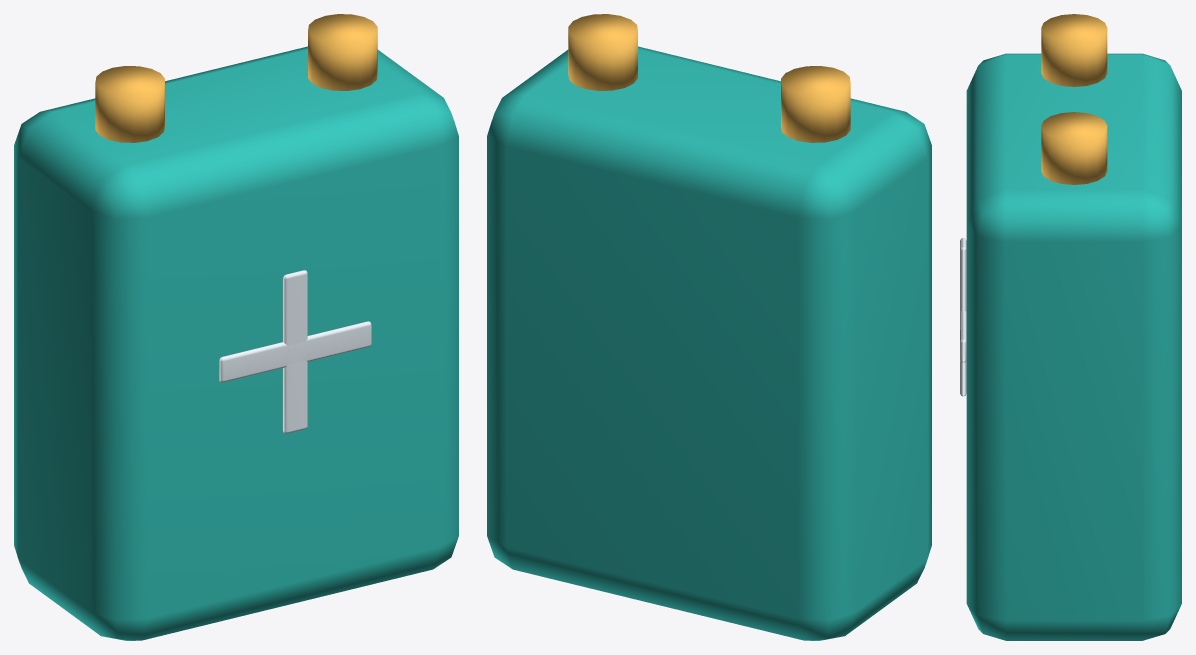
File: battery-lite.glb
3 renders of one model, left to right at view 1: azimuth 30°, elevation 25°; view 2: azimuth 150°, elevation 25°; view 3: azimuth 270°, elevation 25°, orthographic. The views are drawn at different scales.
Visible parts, largest first — view 1: Battery case; view 2: Battery case; view 3: Battery case.
Part boxes in pixels (box(x1,y1,x2,y2)): Battery case: box(14, 14, 458, 640); Battery case: box(487, 14, 931, 640); Battery case: box(960, 14, 1181, 640).
Size of the model in its own units: 1.2 by 1.65 by 0.67.
